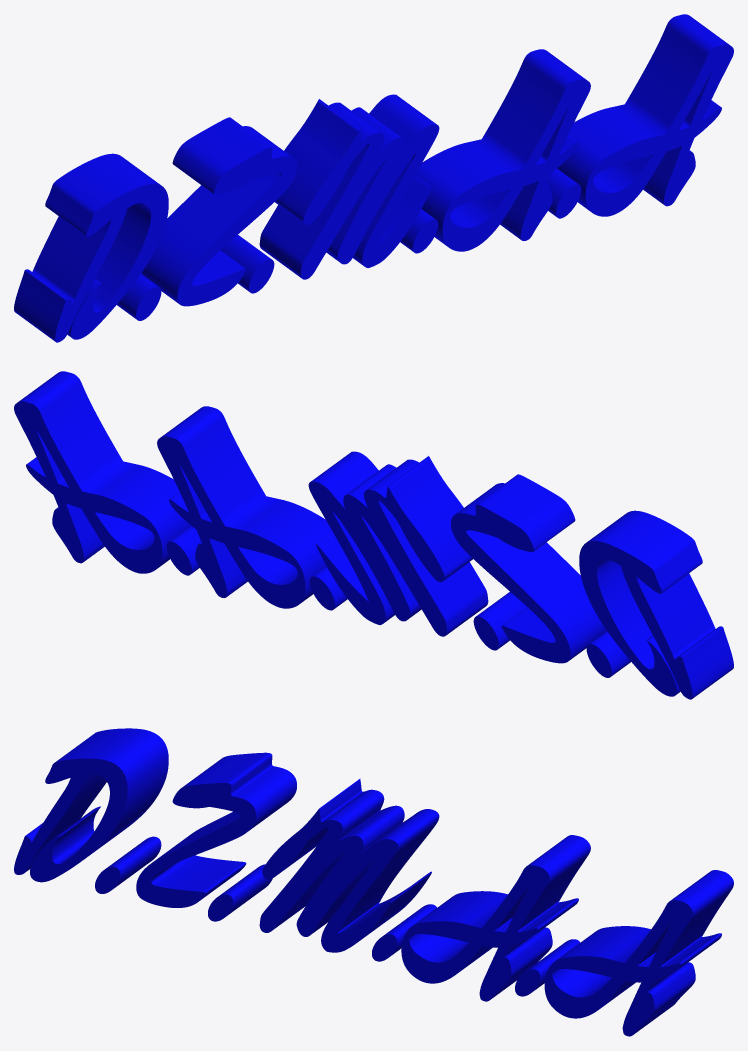
3 views of the same model, one above another, from view 1: azimuth 30°, elevation 25°; view 2: azimuth 150°, elevation 25°; view 3: azimuth 330°, elevation 25° (orthographic).
Parts seen in each view (by area): view 1: Text; view 2: Text; view 3: Text.
Boxes of the visible parts, box(x1,y1,x2,y2) form: Text: box(14, 14, 733, 342); Text: box(14, 371, 733, 699); Text: box(14, 728, 733, 1036).
Bounding box in the file's own units: 4.29 × 0.9405 × 0.45.
